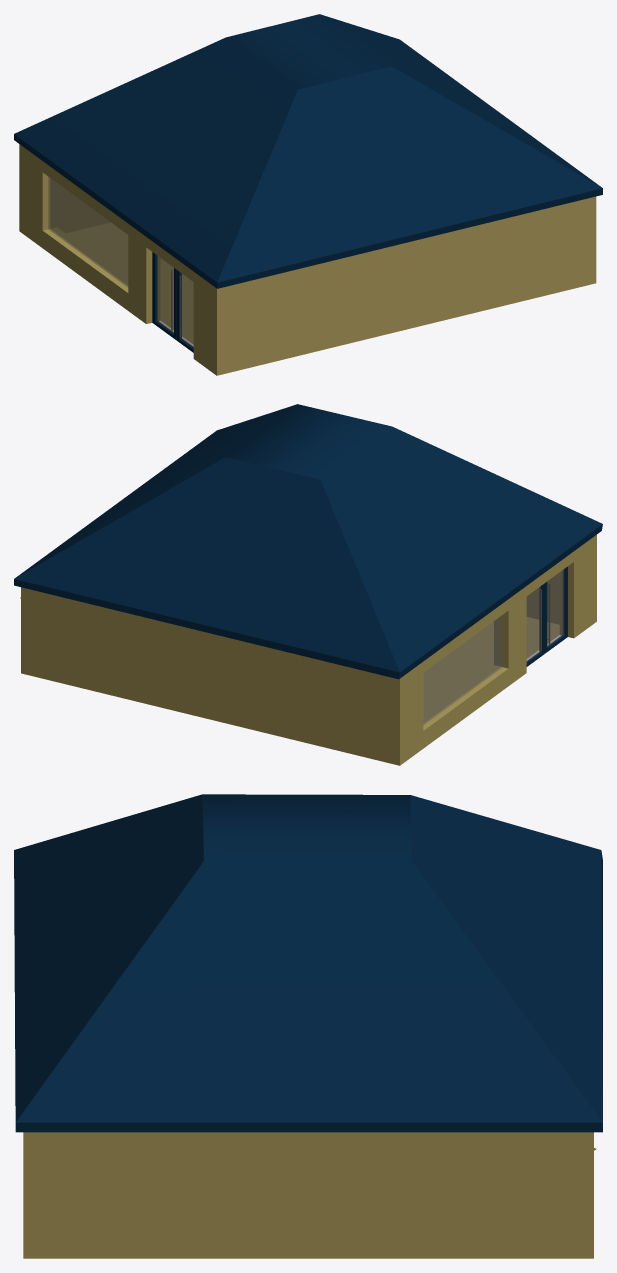
Rendered from teppichladen_position.dae.
The picture shows the model from 3 angles, top to bottom: view 1: azimuth 30°, elevation 25°; view 2: azimuth 150°, elevation 25°; view 3: azimuth 270°, elevation 25°; orthographic projection. The views are drawn at different scales.
Visible parts, largest first — view 1: roof, house, window2, pasted__doorInset, pasted__pasted__doorInset, pasted__door1, lochfueller; view 2: roof, house, window2, pasted__pasted__doorInset, pasted__doorInset, pasted__pasted__door1, lochfueller; view 3: roof, house.
Part boxes in pixels (left/top/right/bottom): roof: left=14, top=14, right=602, bottom=288; house: left=19, top=144, right=596, bottom=375; window2: left=48, top=177, right=128, bottom=286; pasted__doorInset: left=156, top=255, right=173, bottom=333; pasted__pasted__doorInset: left=180, top=273, right=193, bottom=347; pasted__door1: left=152, top=252, right=176, bottom=340; lochfueller: left=145, top=237, right=194, bottom=282; roof: left=14, top=404, right=602, bottom=679; house: left=20, top=534, right=596, bottom=765; window2: left=423, top=615, right=502, bottom=724; pasted__pasted__doorInset: left=547, top=569, right=564, bottom=646; pasted__doorInset: left=526, top=586, right=540, bottom=661; pasted__pasted__door1: left=544, top=566, right=567, bottom=653; lochfueller: left=526, top=551, right=574, bottom=596; roof: left=14, top=794, right=602, bottom=1132; house: left=23, top=1132, right=596, bottom=1258.
Size of the model in its own units: 12.83 by 6.54 by 11.73.
